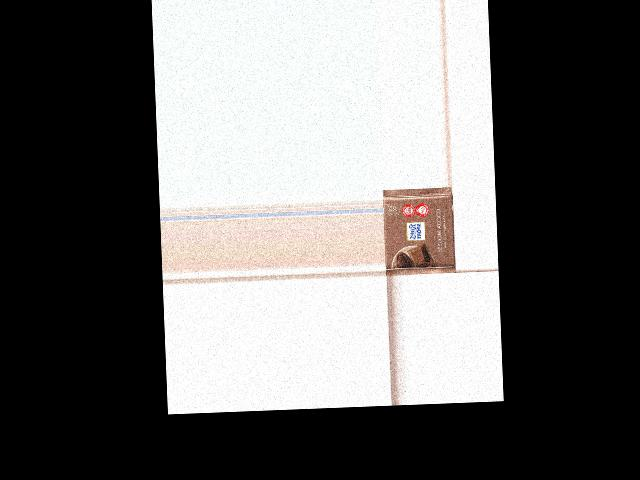chocolate: (382, 188, 456, 275)
